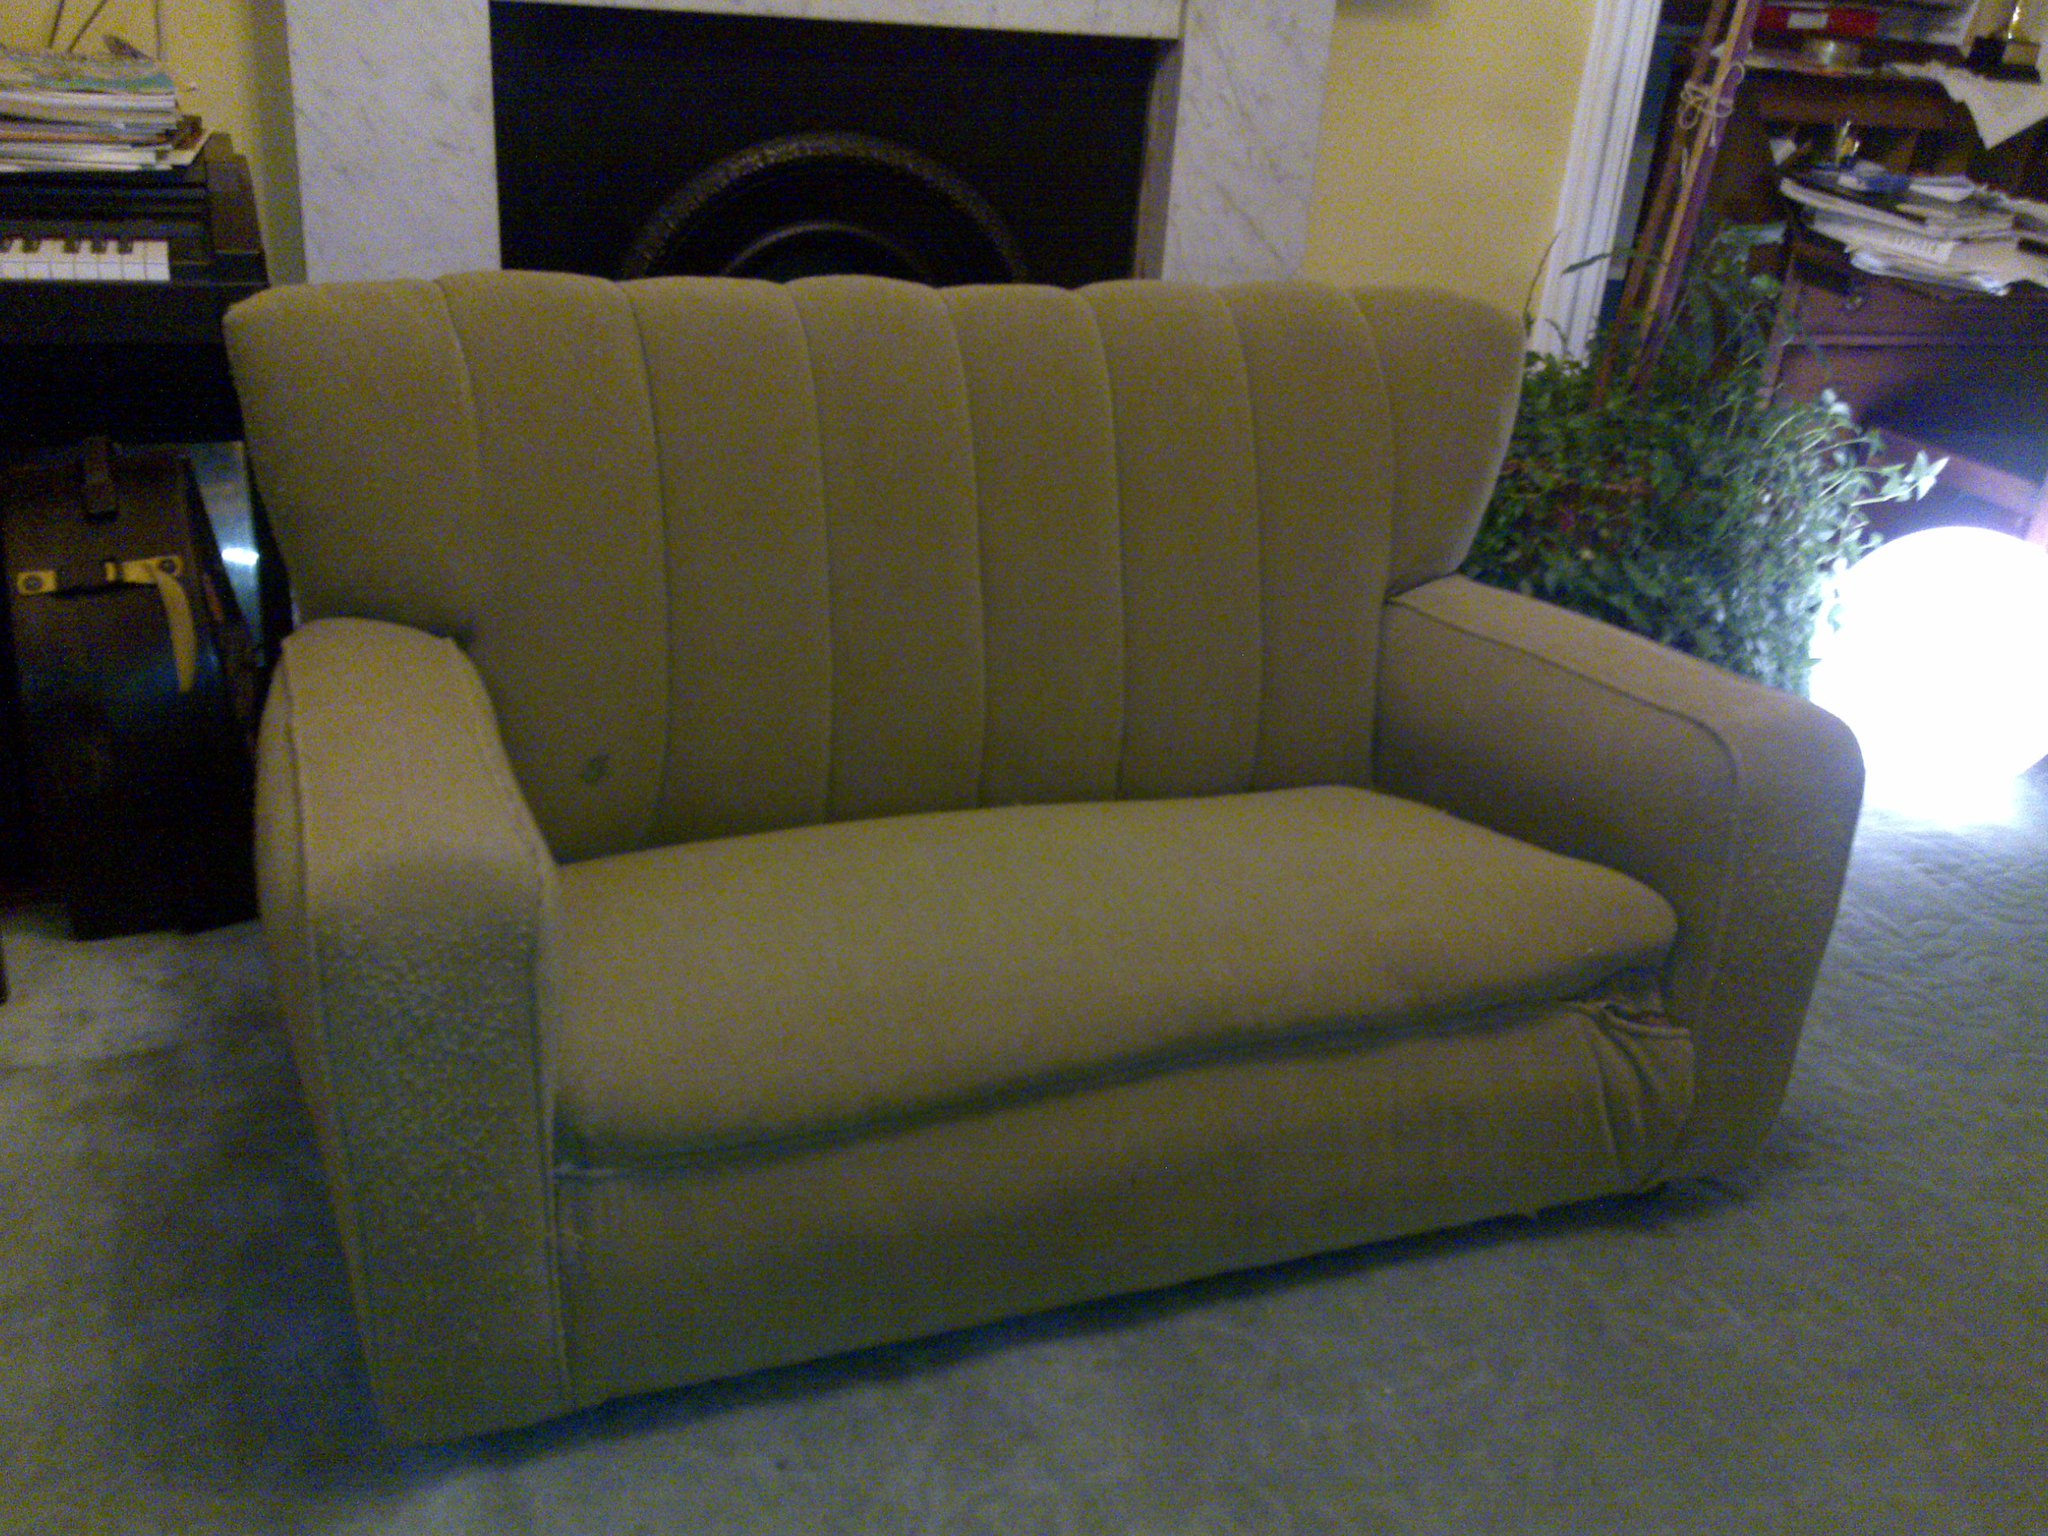sofa: (189, 257, 1887, 1296)
